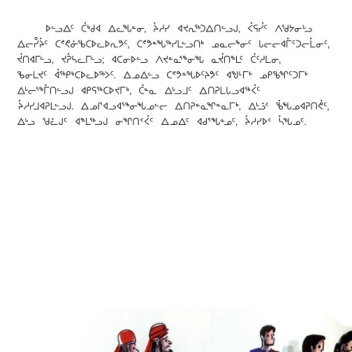inuktitut: (15, 33, 331, 50), (15, 96, 331, 112), (12, 65, 311, 81), (42, 17, 314, 34), (16, 113, 307, 127), (13, 50, 284, 65), (13, 81, 262, 97)
